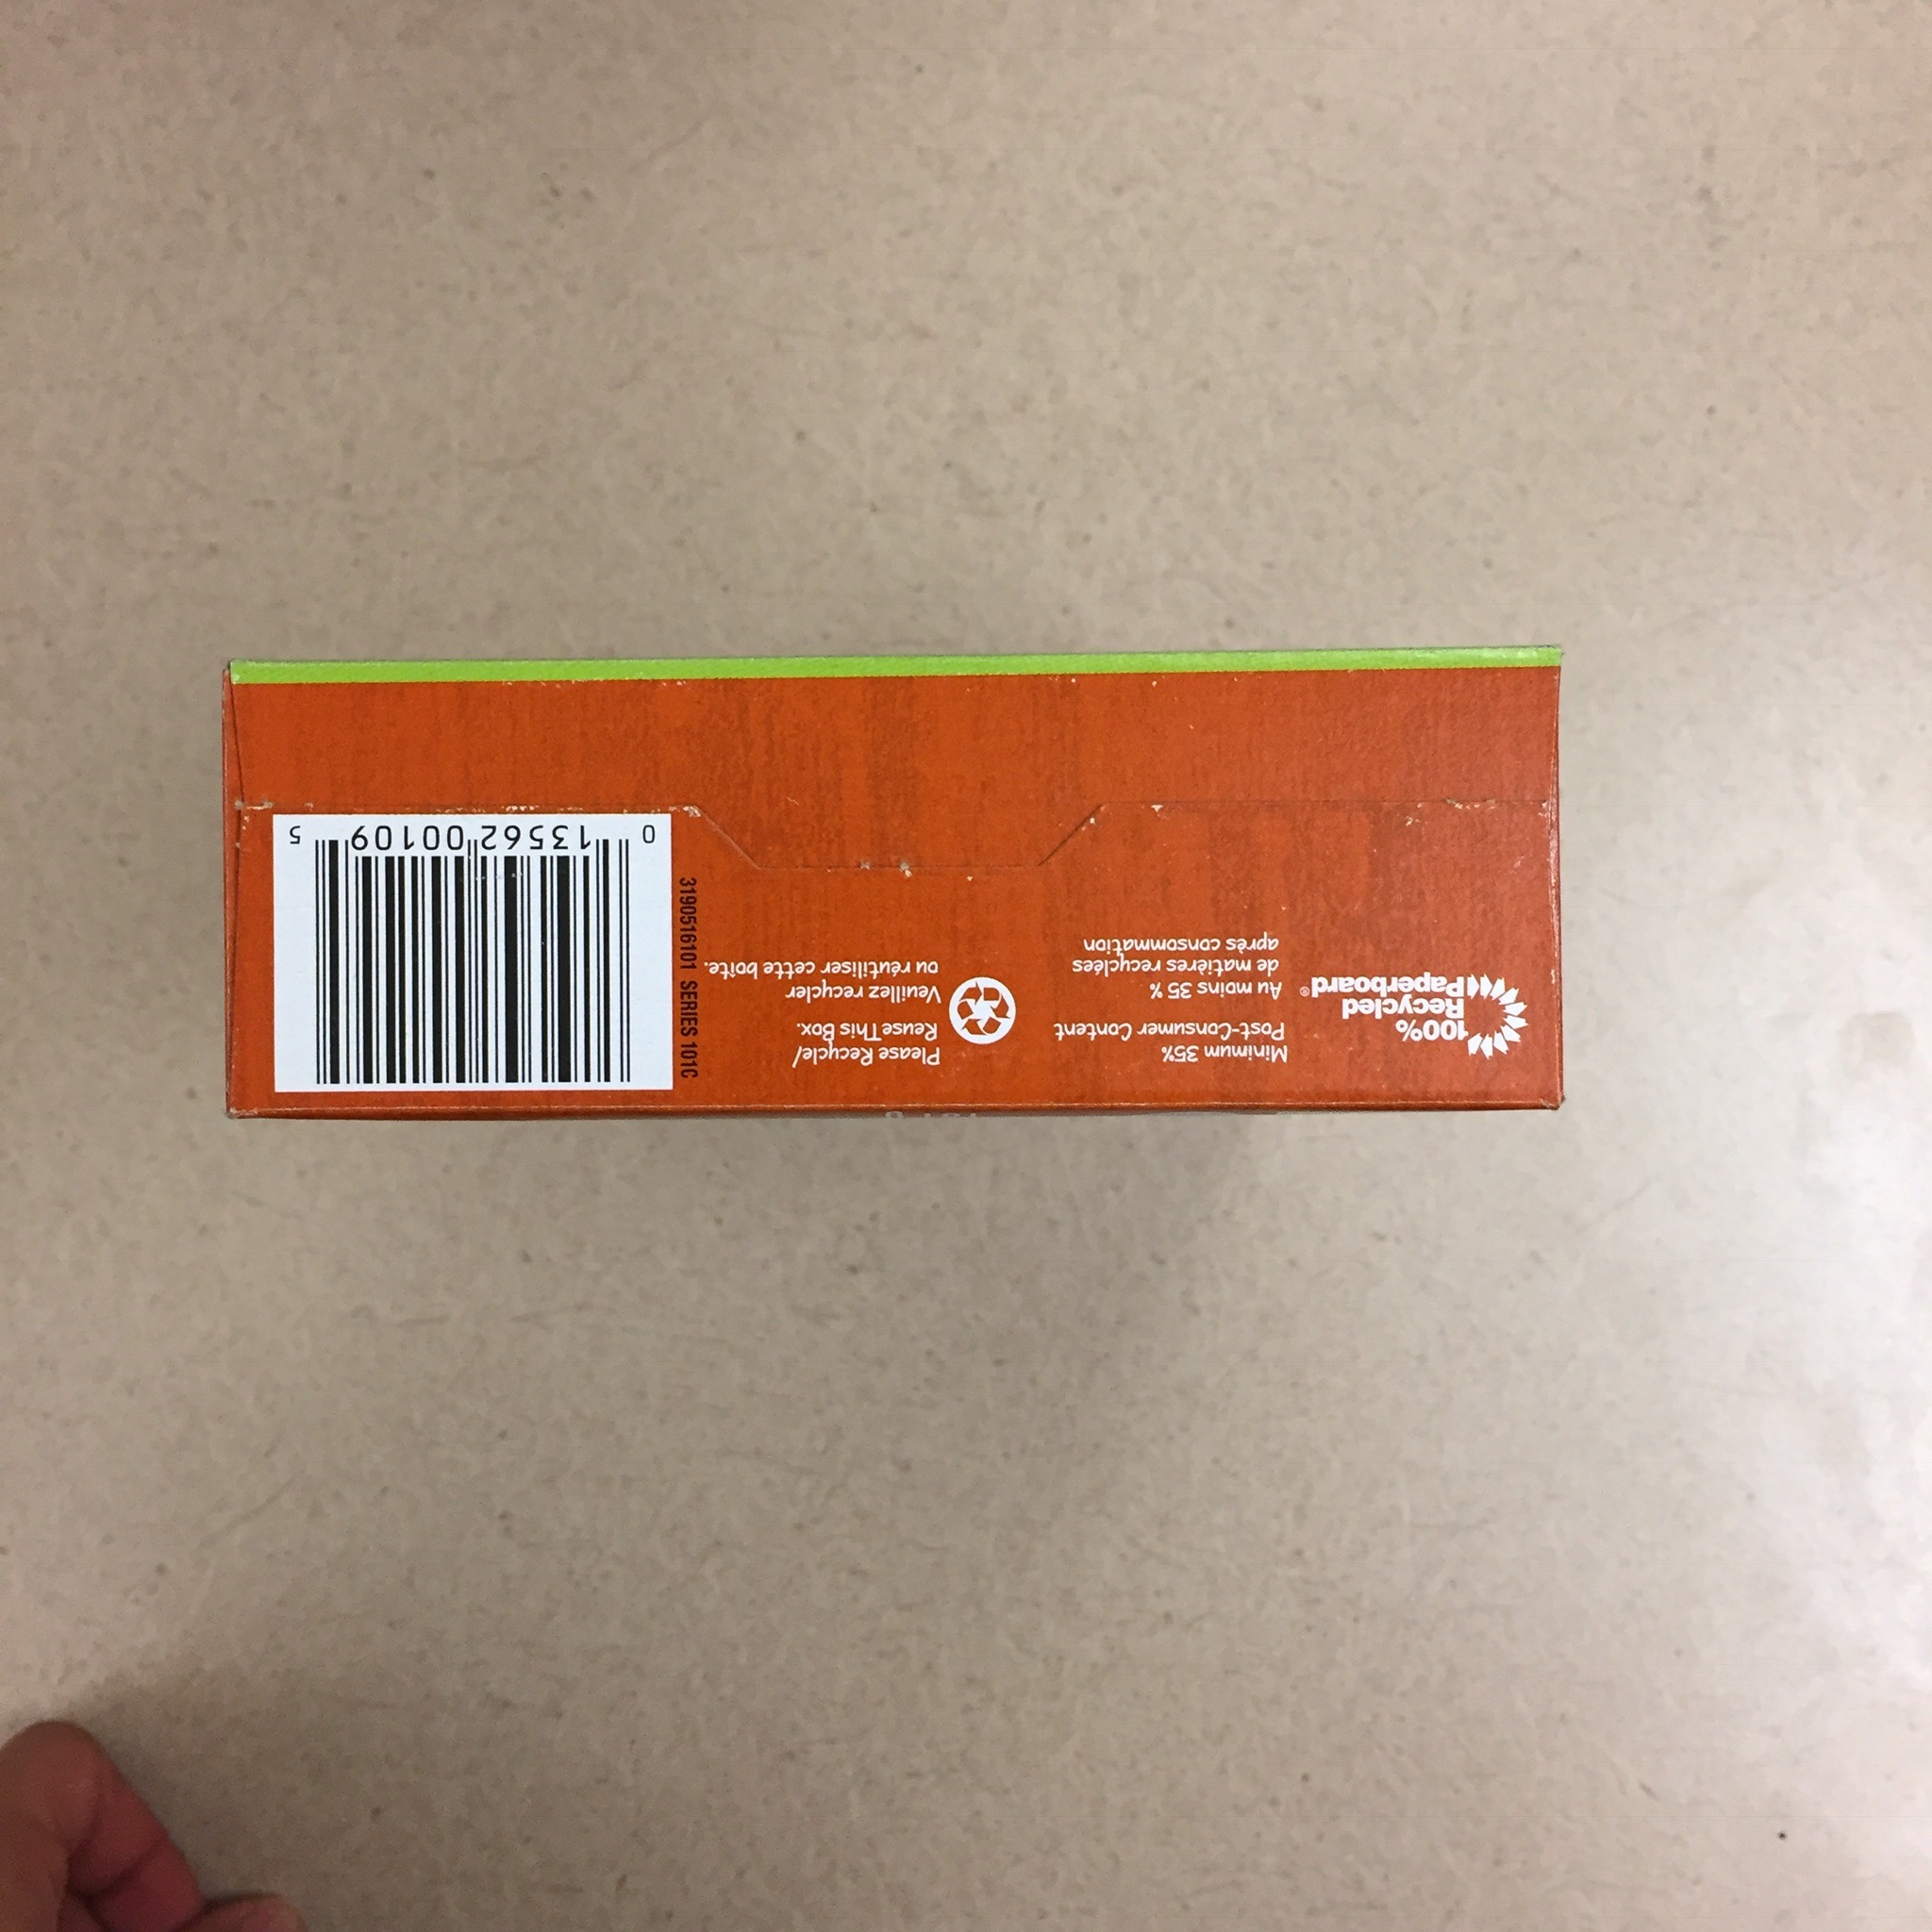annies_snickerdoodle_cinnamon_sugar: (218, 644, 1571, 1127)
